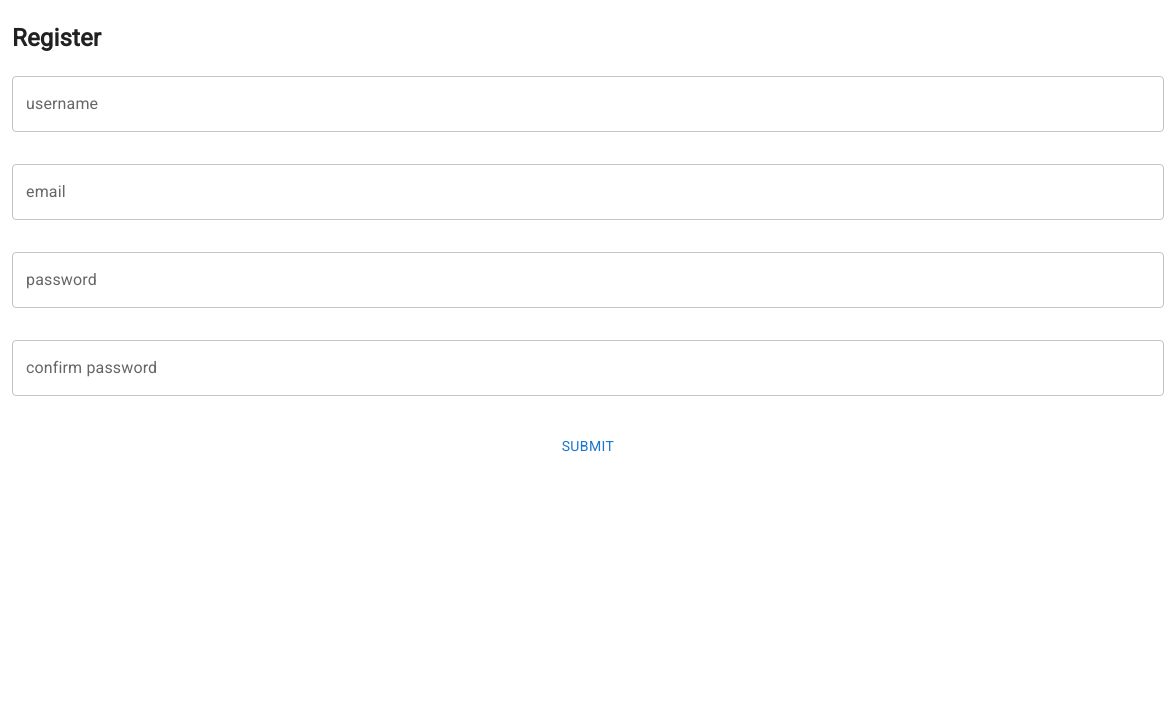
Test: Register Page › displays error message for missing password
The width and height of the screenshot is (1176, 720).
Type "user" into the field with placeholder "username" at (588, 104), box [12,76,1164,132]
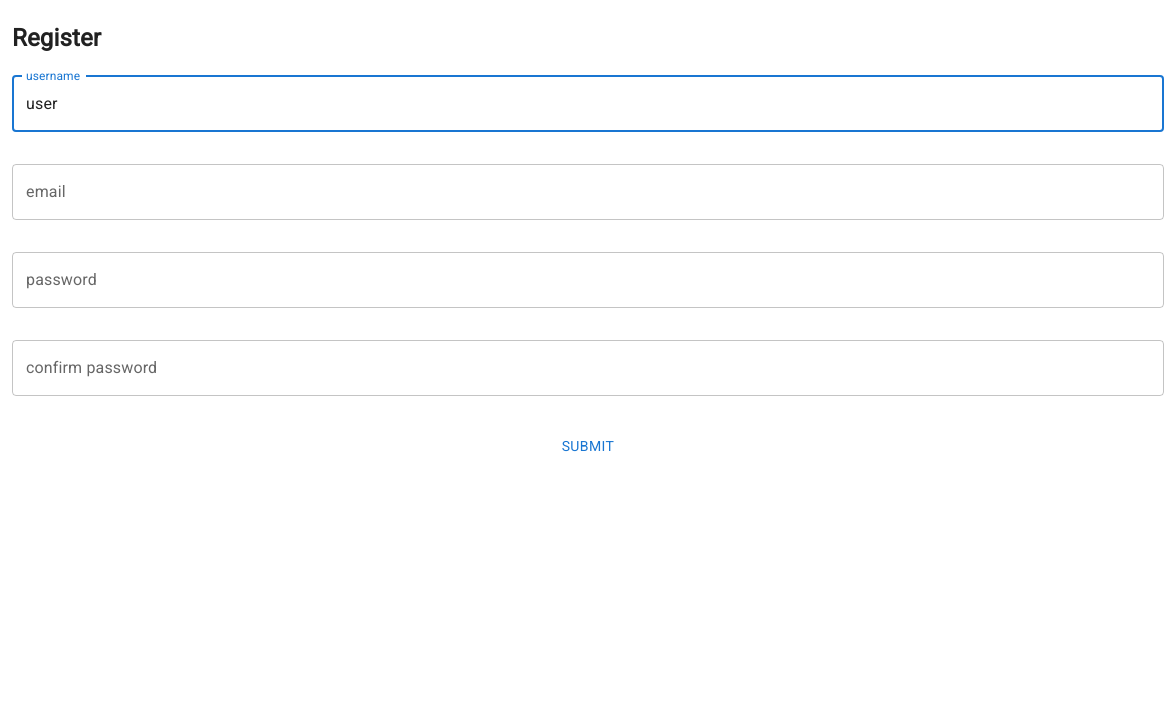
Type "user@test.com" into the field with placeholder "email" at (588, 192), box [12,164,1164,220]
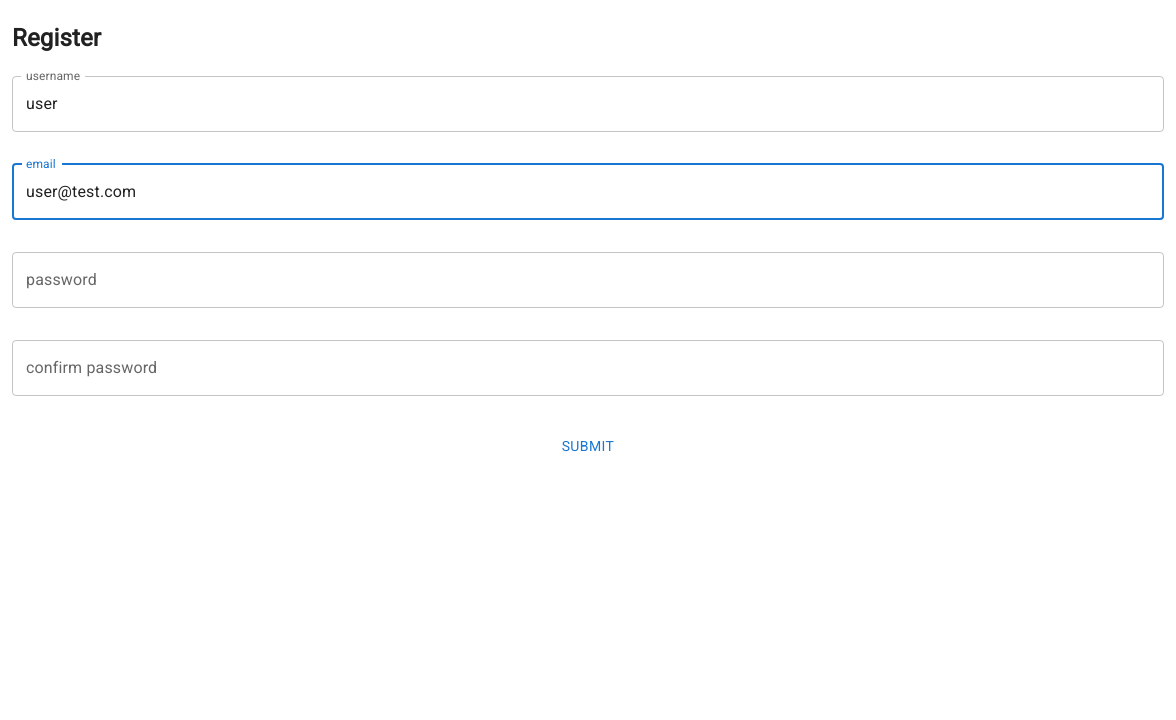
Type "password" into the password field with placeholder "confirm password" at (588, 368), box [12,340,1164,396]
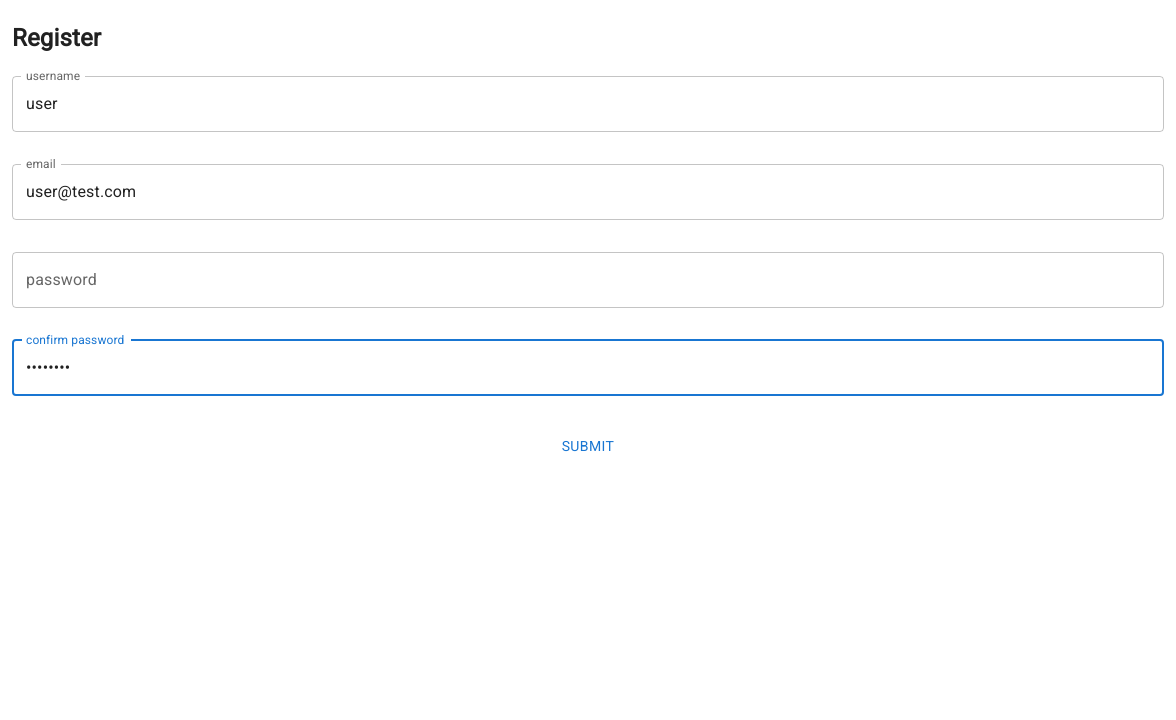
Click the button "Submit" at (588, 446), box [12,428,1164,464]
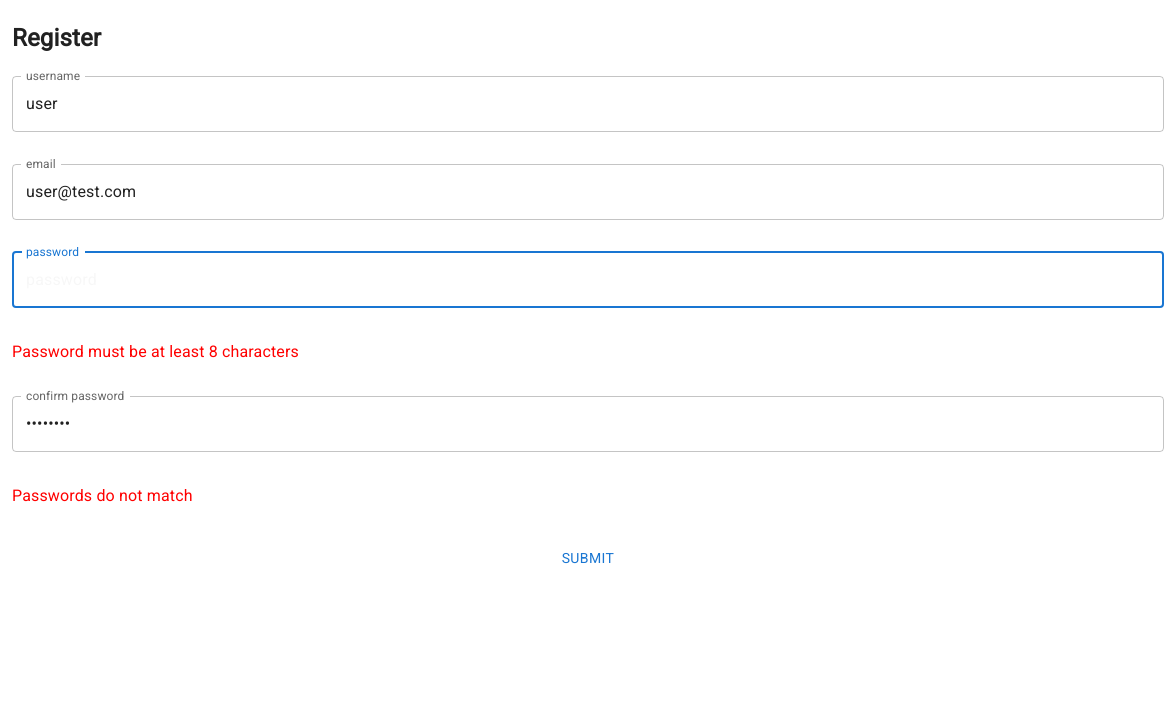
Now the text "Password must be at least 8 characters" is shown, box [12,342,299,361]
